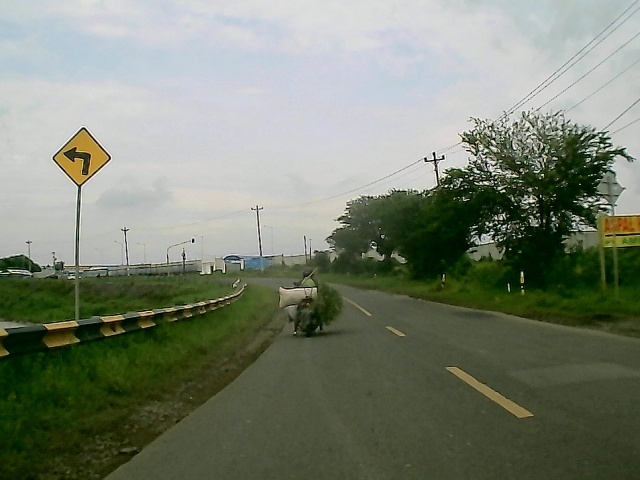Tikungan tajam ke kiri: (51, 124, 112, 187)
